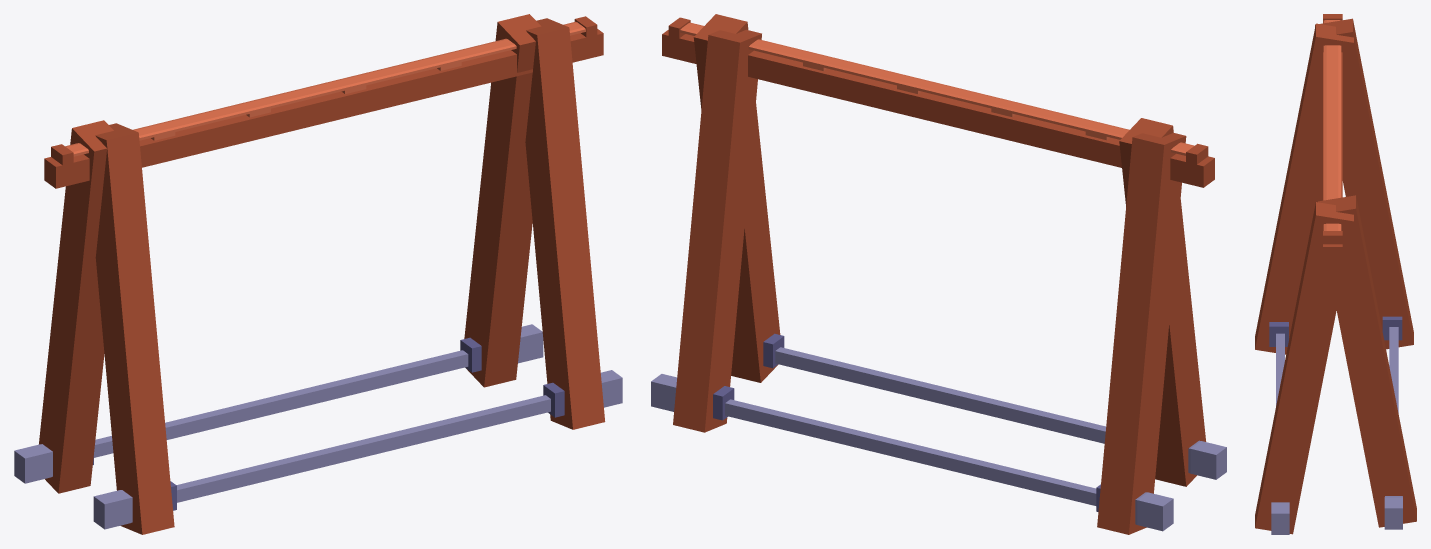
File: Weapon Rack.fbx
3 views of the same model, side by side, from view 1: azimuth 30°, elevation 25°; view 2: azimuth 150°, elevation 25°; view 3: azimuth 270°, elevation 25° (orthographic). The views are drawn at different scales.
Visible parts, largest first — view 1: mergedBlocks; view 2: mergedBlocks; view 3: mergedBlocks.
Part boxes in pixels (box(x1,y1,x2,y2)): mergedBlocks: box(14, 14, 622, 534); mergedBlocks: box(651, 14, 1226, 534); mergedBlocks: box(1255, 14, 1416, 534).
Size of the model in its own units: 17.05 by 11.19 by 5.14.
